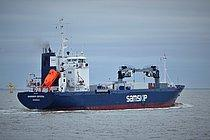Ship: (8, 16, 189, 113)
